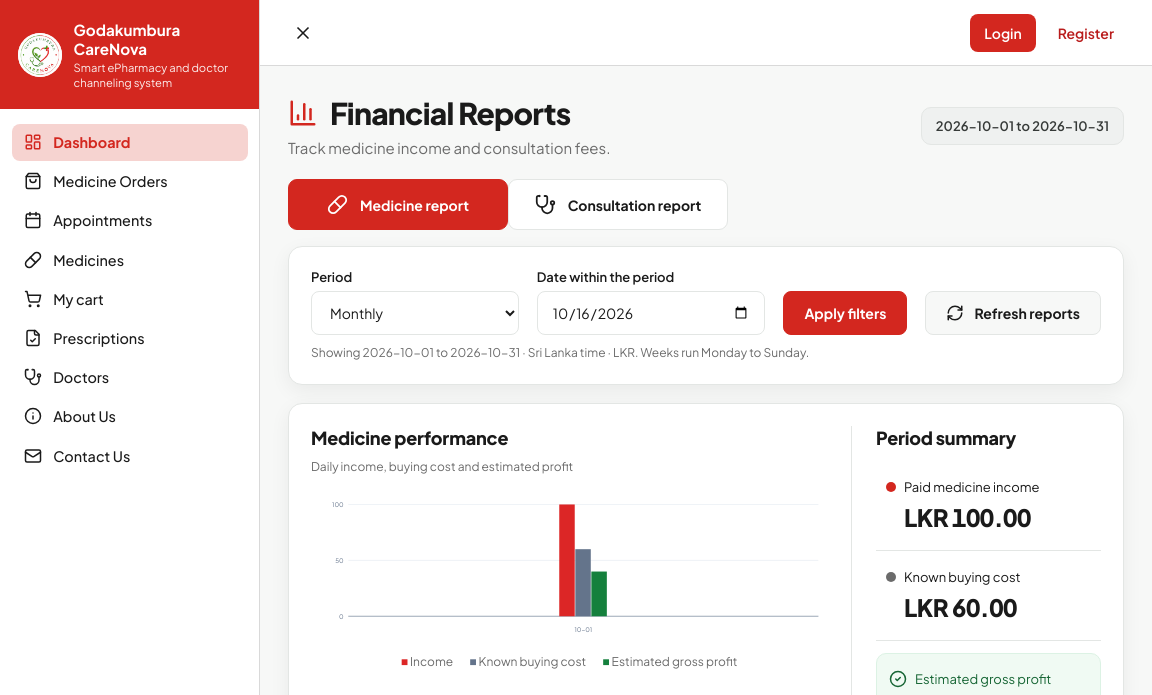
Scenario: switches between separate medicine and consultation reports with daily tables
Check: the picture named "Medicine income, buying cost and estimated profit chart" is shown, box [311,493,827,642]
Click the tab "Consultation report". click: point(618, 205)
box: [508,179,728,230]
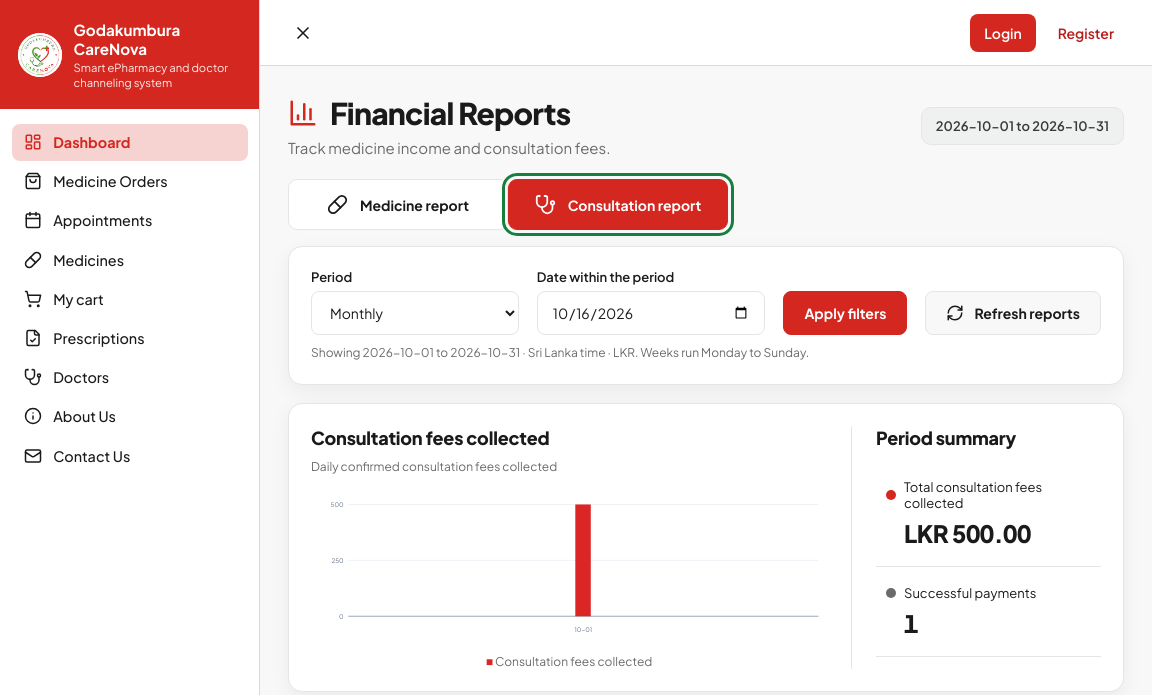
Check: the picture named "Total consultation fees collected chart" is shown, box [311,493,827,642]
